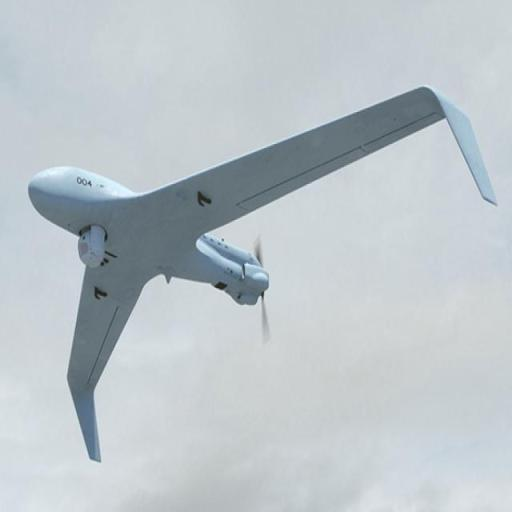uav: (10, 80, 512, 489)
